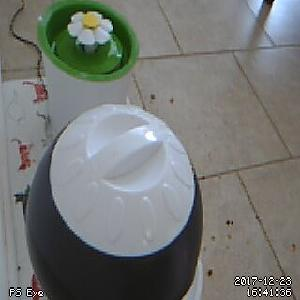fountain: (34, 1, 140, 83)
